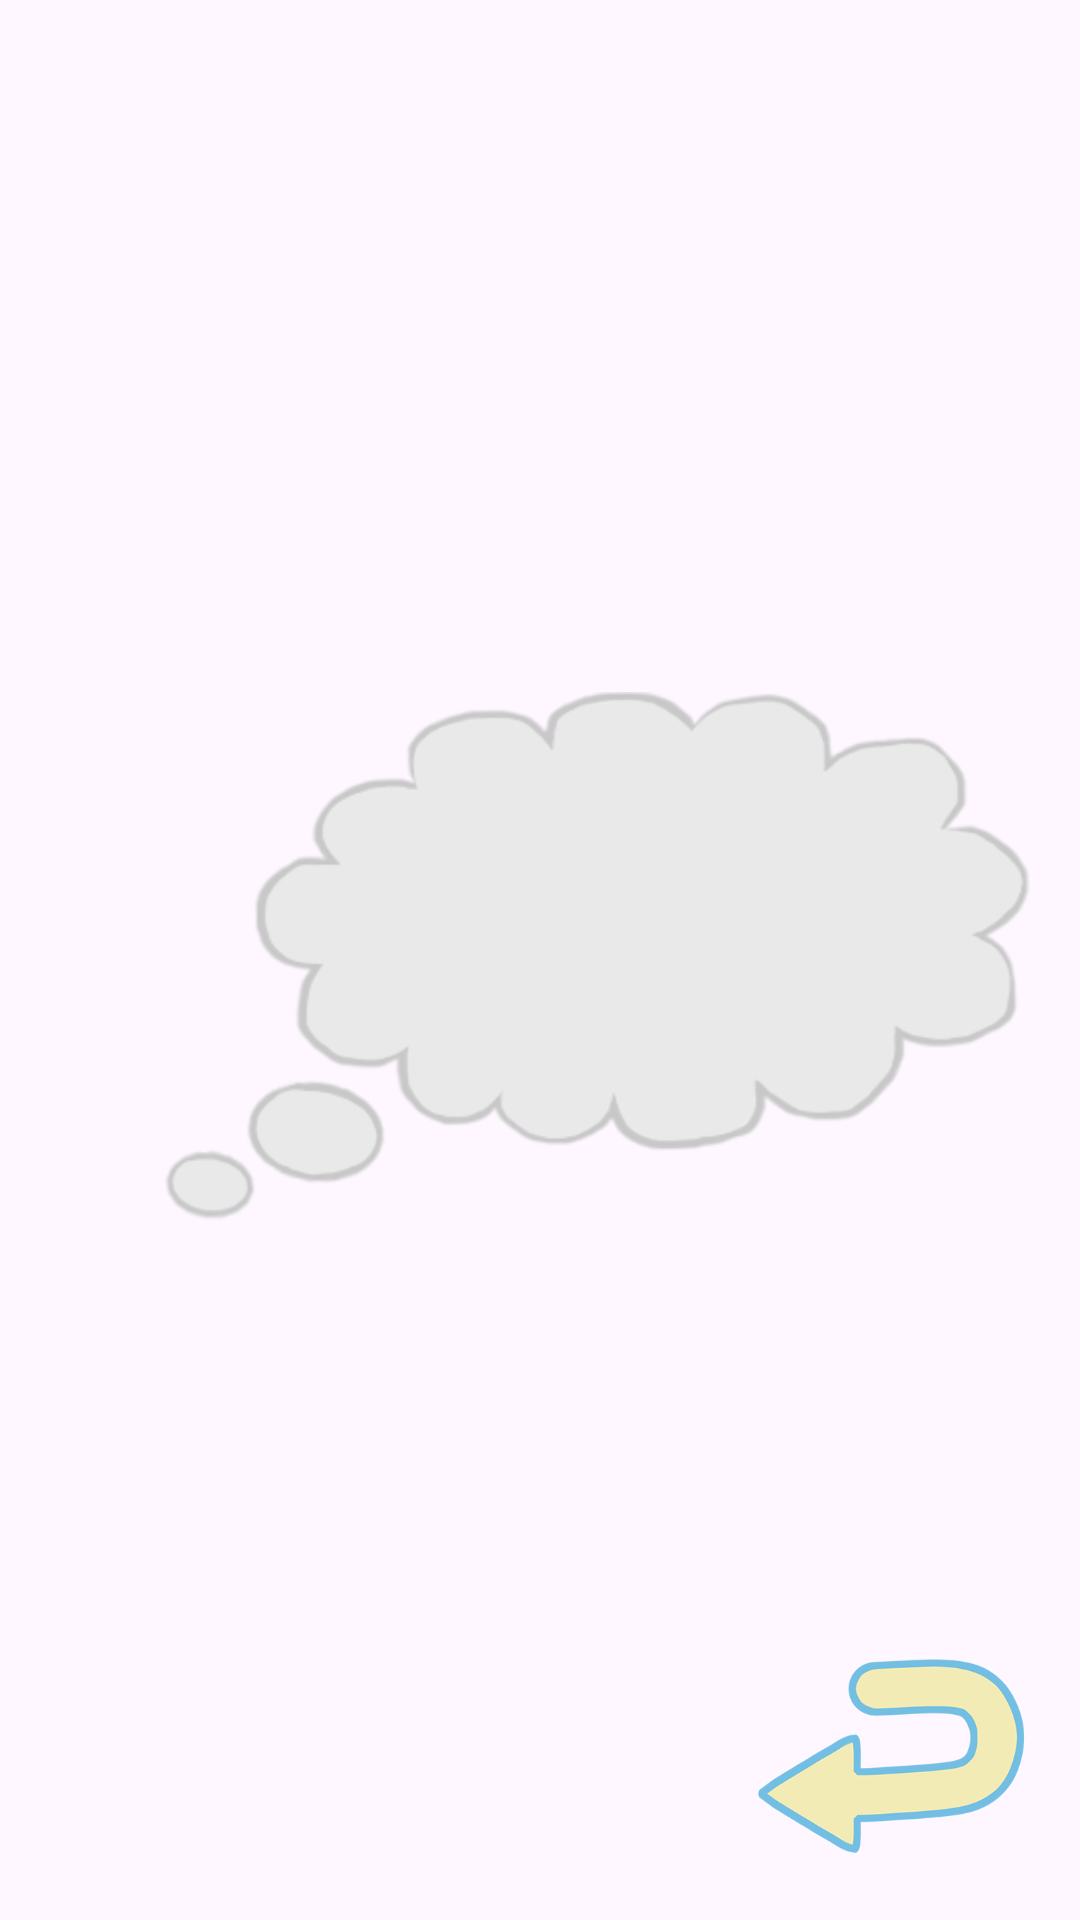

Named icons in this screenshot (1080 × 1920) and their bounding boxes, (x1, y1, x2, y2):
return: (758, 1659, 1024, 1853)
